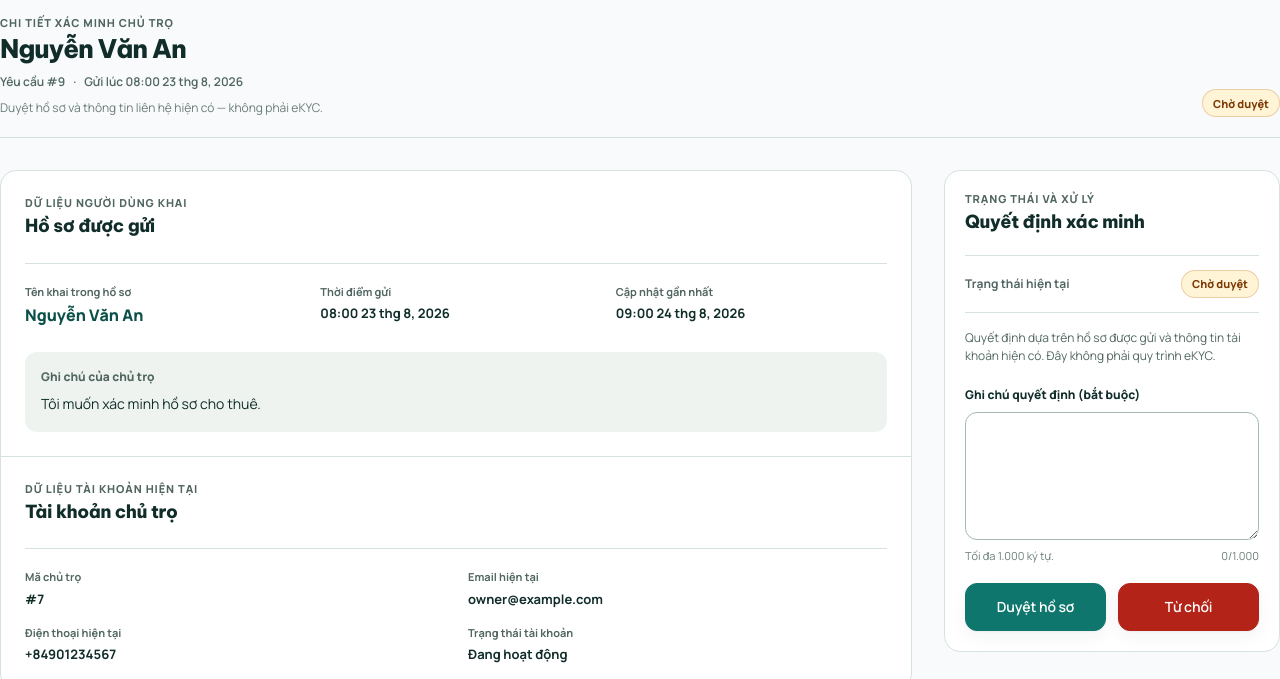
AdminVerificationDetail › refreshes canonical detail after a conflict without resending the decision
Type "Từ chối vì dữ liệu không phù hợp." into the text box labelled "Ghi chú quyết định (bắt buộc)".
click(1112, 476); type("Từ chối vì dữ liệu không phù hợp.")  # box [965,412,1259,540]
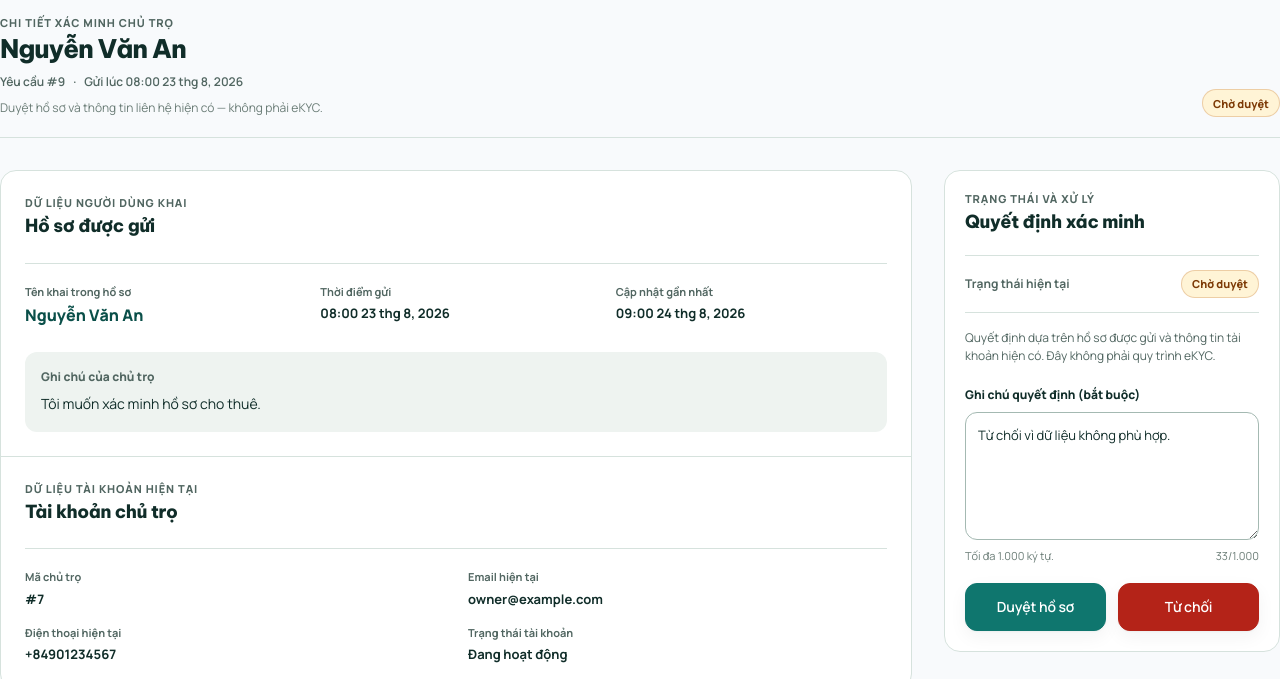
Click the button "Từ chối".
click(1188, 607)  # box [1118,583,1259,631]
(page scrolled)
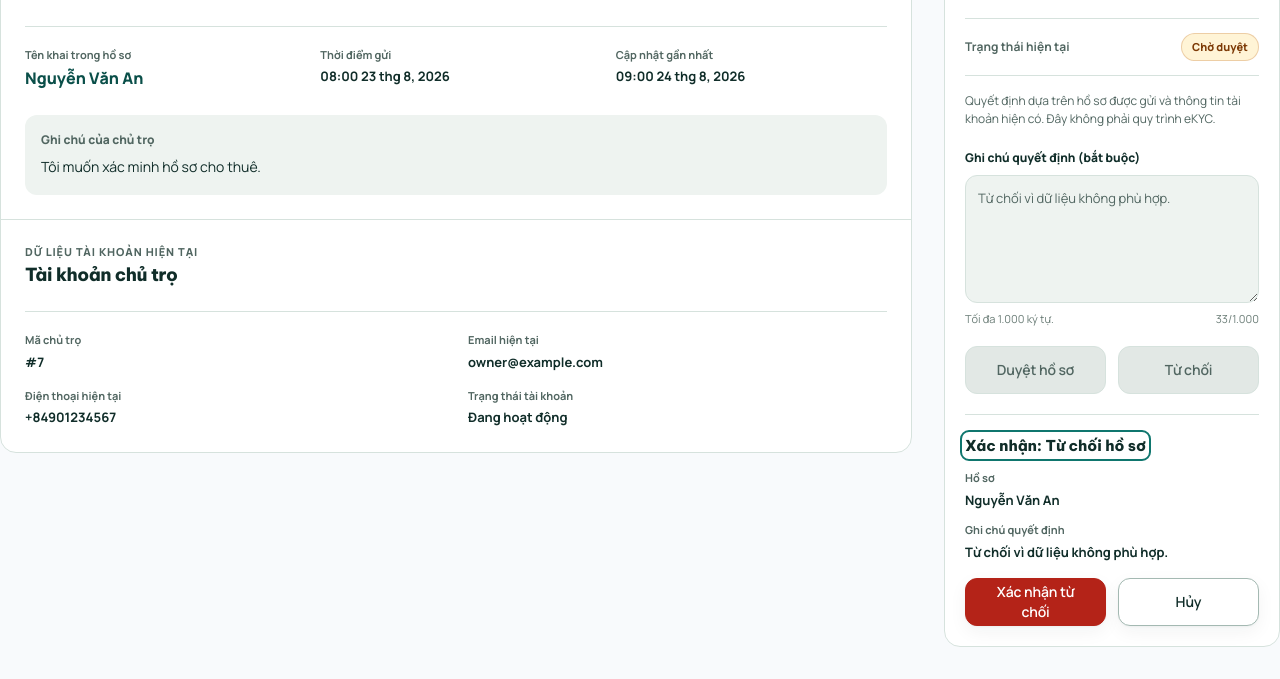
Click the button "Xác nhận từ chối".
click(1036, 602)  # box [965,578,1106,626]
(page scrolled)
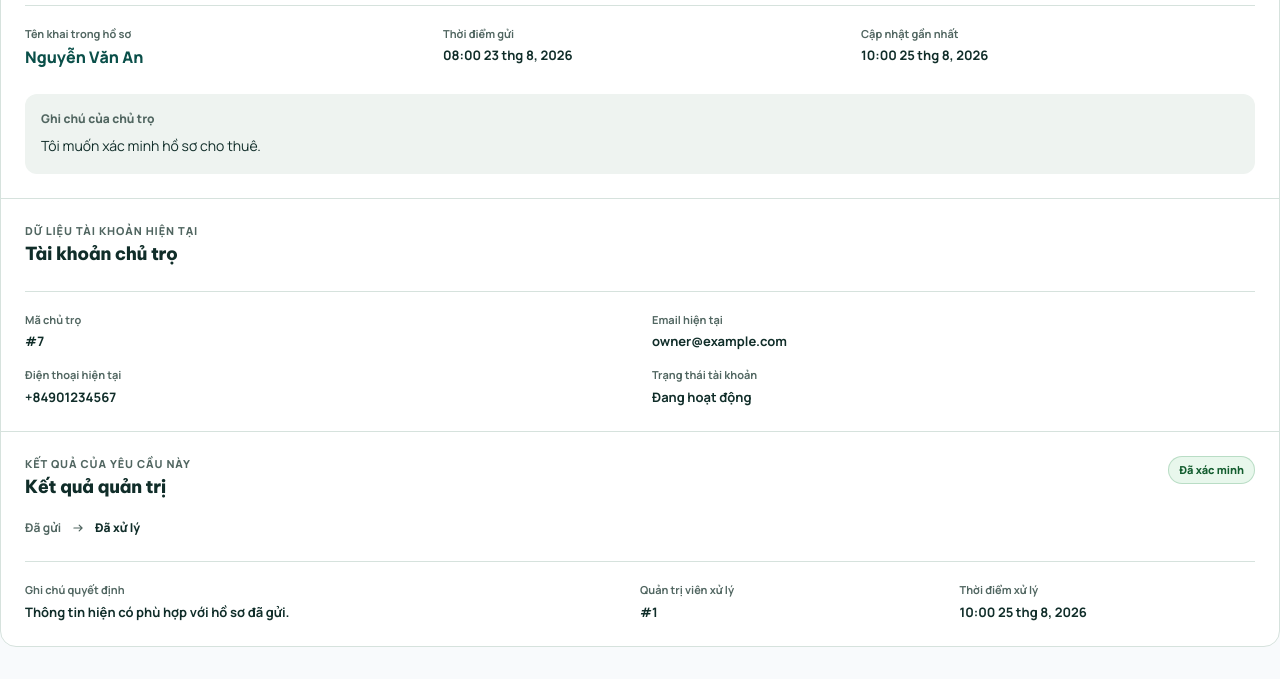
Expected: the heading "Kết quả quản trị" is shown, [25,475,166,498]
Expected: the heading "Xác nhận:" is gone
